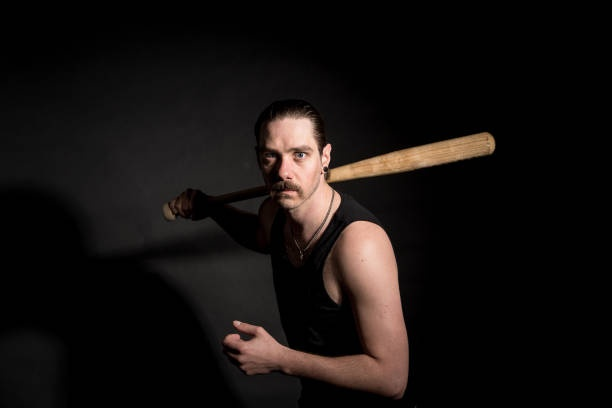bita: (328, 133, 491, 182)
